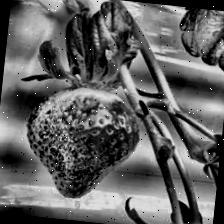Powdery Mildew Fruit: (22, 84, 94, 178)
